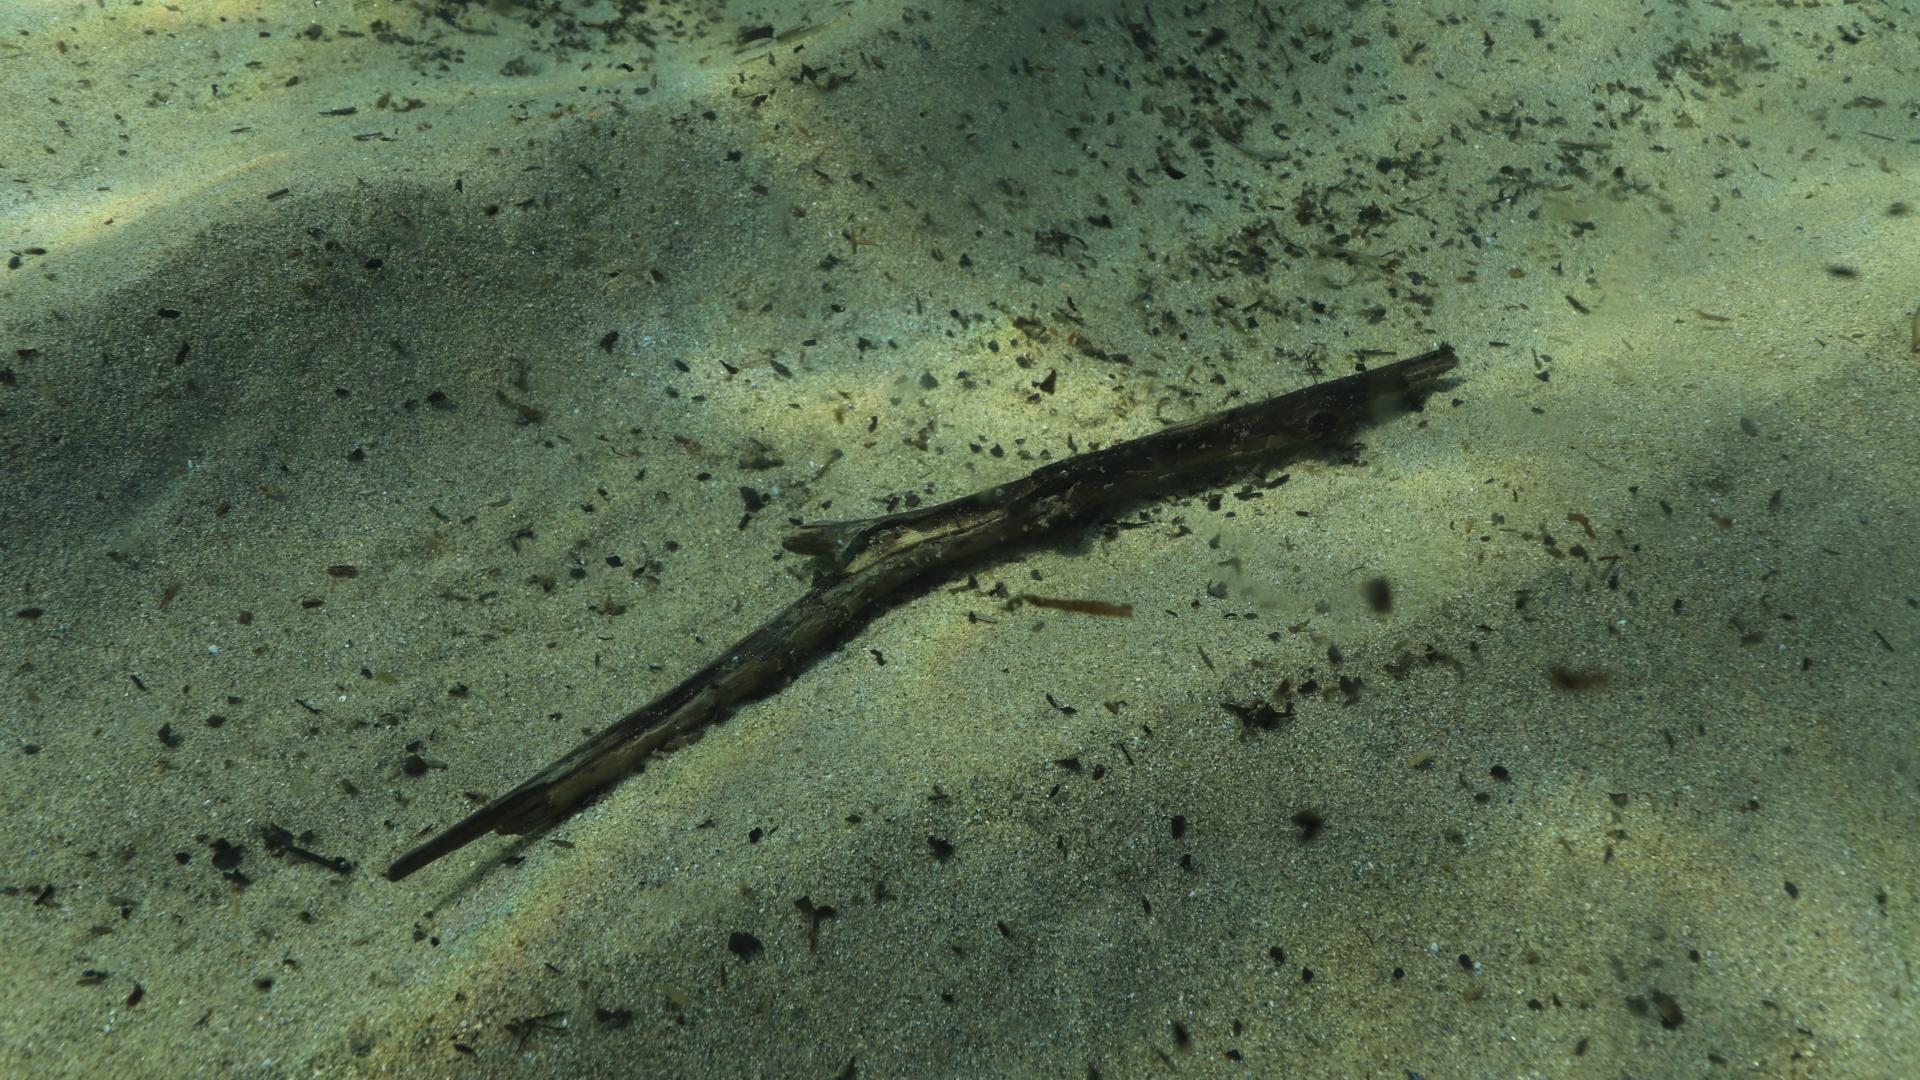wood: (384, 344, 1458, 880)
